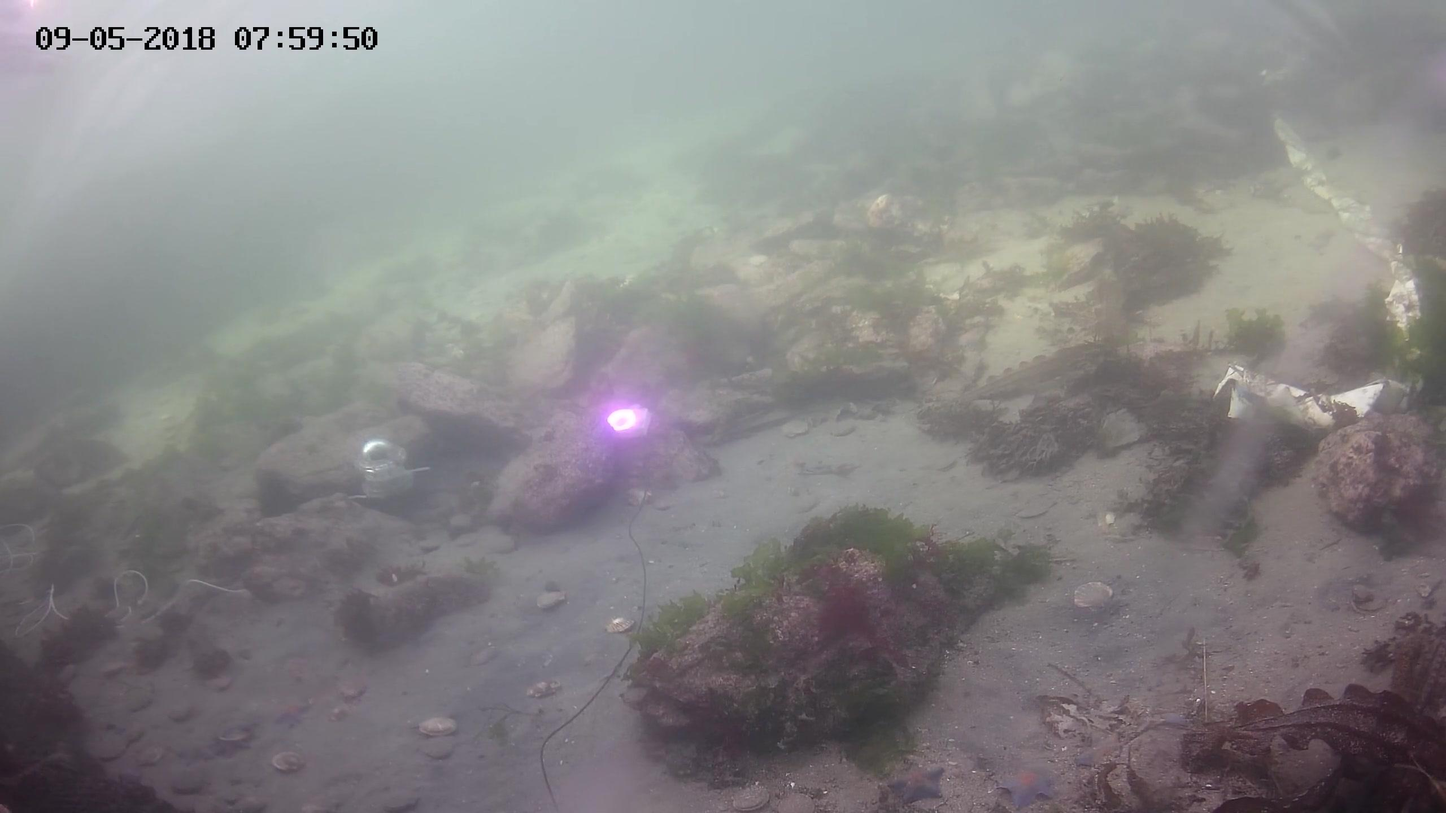holothurian: (885, 763, 950, 805), (990, 766, 1054, 806), (1081, 733, 1130, 777), (271, 697, 307, 727)
scallop: (1072, 580, 1118, 613), (80, 731, 130, 761), (417, 714, 465, 740), (728, 783, 769, 813), (168, 767, 212, 792), (272, 748, 307, 779), (524, 675, 563, 701), (777, 787, 815, 813), (602, 612, 639, 638), (778, 412, 809, 440), (215, 724, 256, 744), (535, 589, 572, 610), (130, 745, 165, 766)
